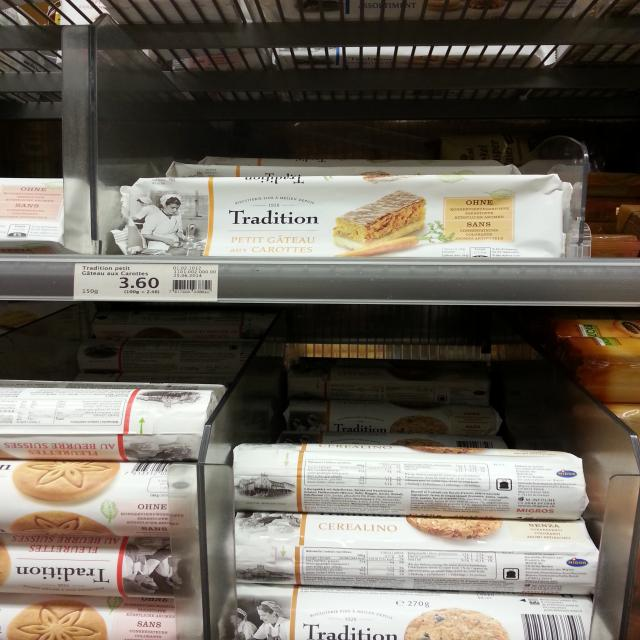Biscuits: (122, 171, 577, 260), (223, 515, 606, 598), (231, 438, 590, 522), (211, 583, 614, 640), (0, 456, 206, 542), (0, 381, 232, 457), (0, 533, 194, 600), (0, 591, 203, 640)
